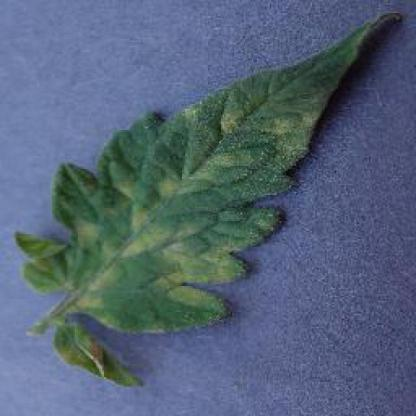Tomato_Leaf_Mold: (16, 14, 402, 332)
